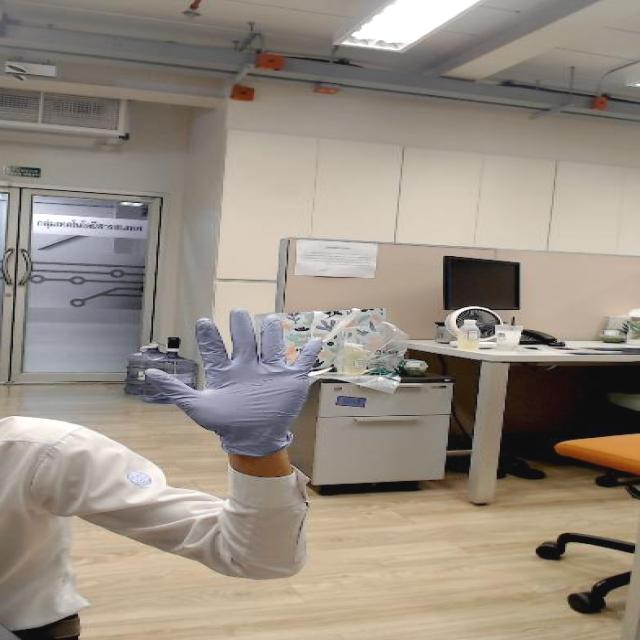glove: (132, 302, 330, 426)
